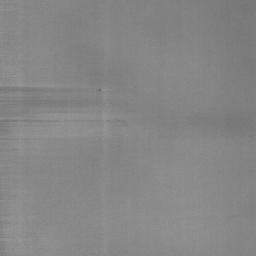Waist folding: (0, 106, 124, 124), (0, 85, 111, 93), (0, 136, 71, 141), (0, 216, 17, 225), (0, 237, 28, 242), (0, 5, 16, 12), (0, 147, 19, 152)
